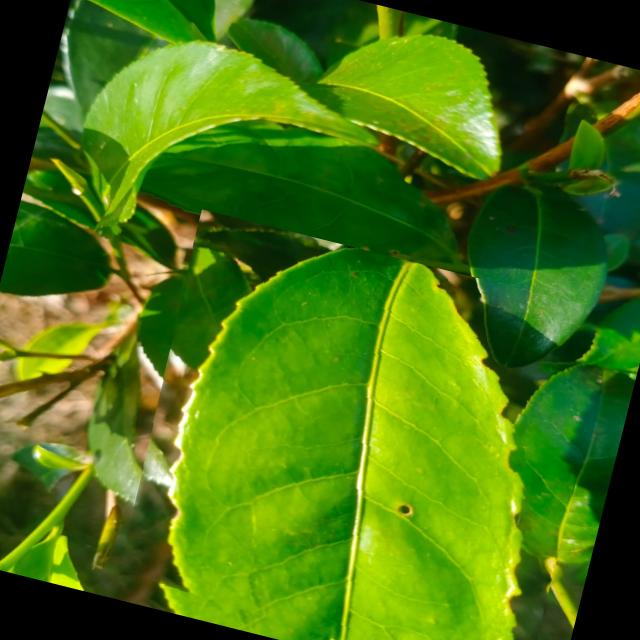Category D(7+ days, Not for Tea): (103, 209, 617, 640)
